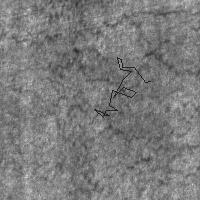crazing: (40, 12, 187, 152), (94, 57, 150, 117)
